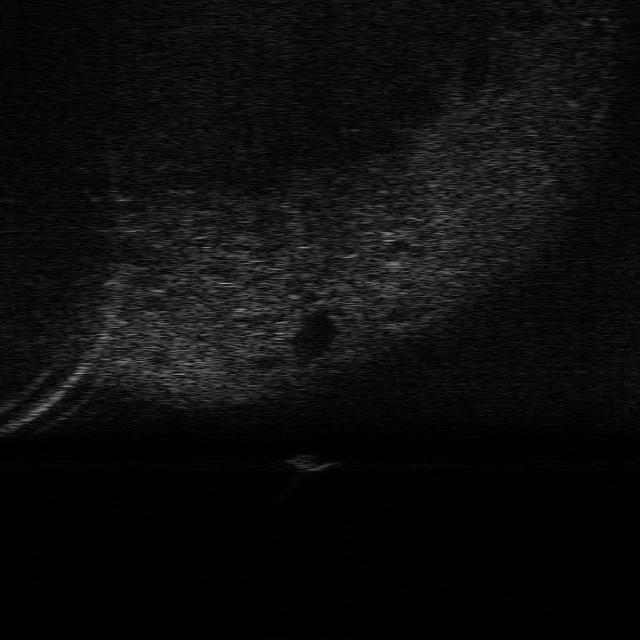cube: (284, 452, 338, 472)
